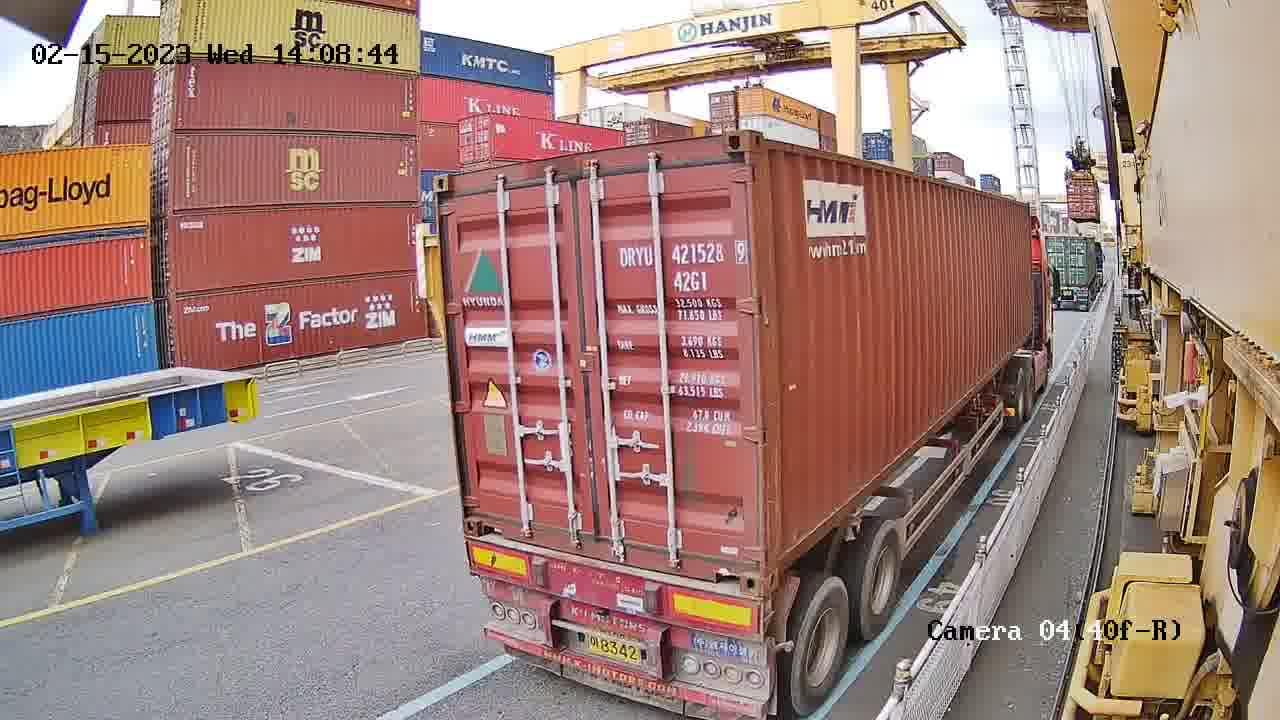Chassis: (464, 539, 761, 640)
Cone: (760, 591, 777, 639)
Hole_L: (763, 504, 804, 599), (461, 492, 507, 540)
Hole_R: (707, 525, 766, 598)
Tire: (791, 577, 853, 716), (860, 523, 902, 632)
